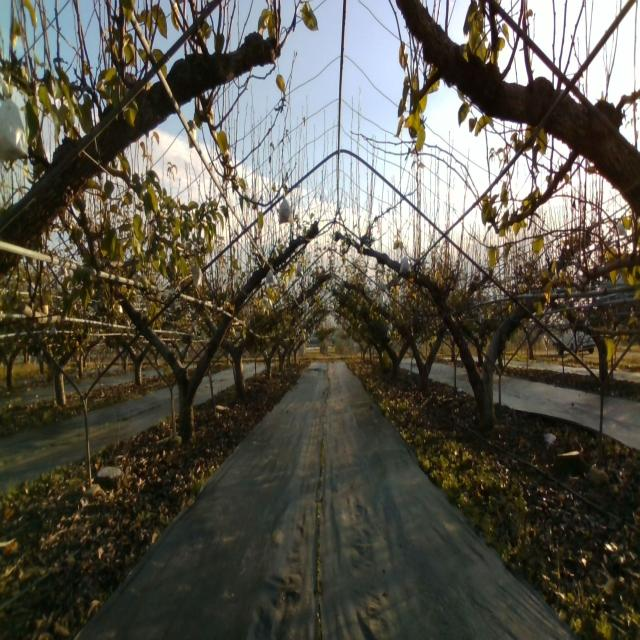pearbags: (0, 79, 30, 160), (278, 195, 294, 225), (399, 253, 413, 275), (191, 264, 204, 287)
